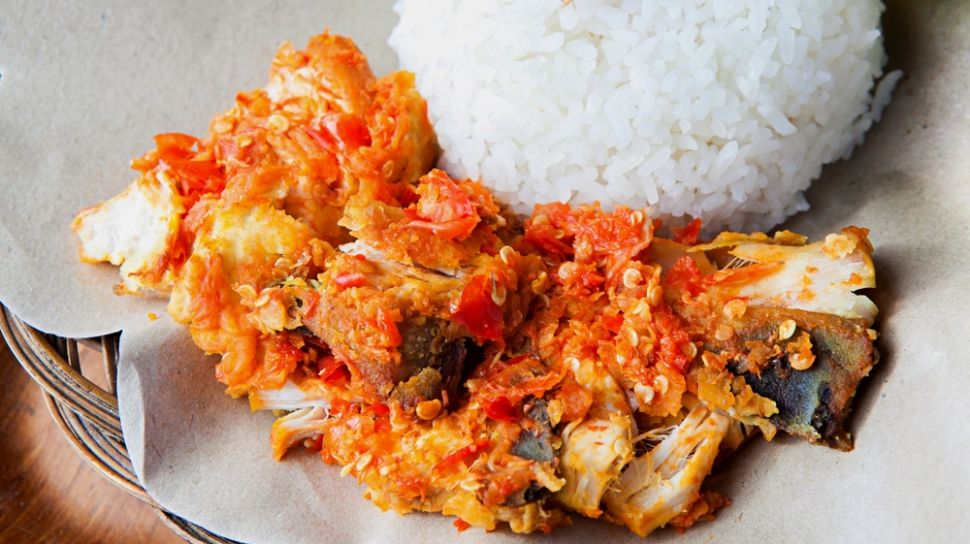ayam_geprek: (110, 92, 867, 539)
